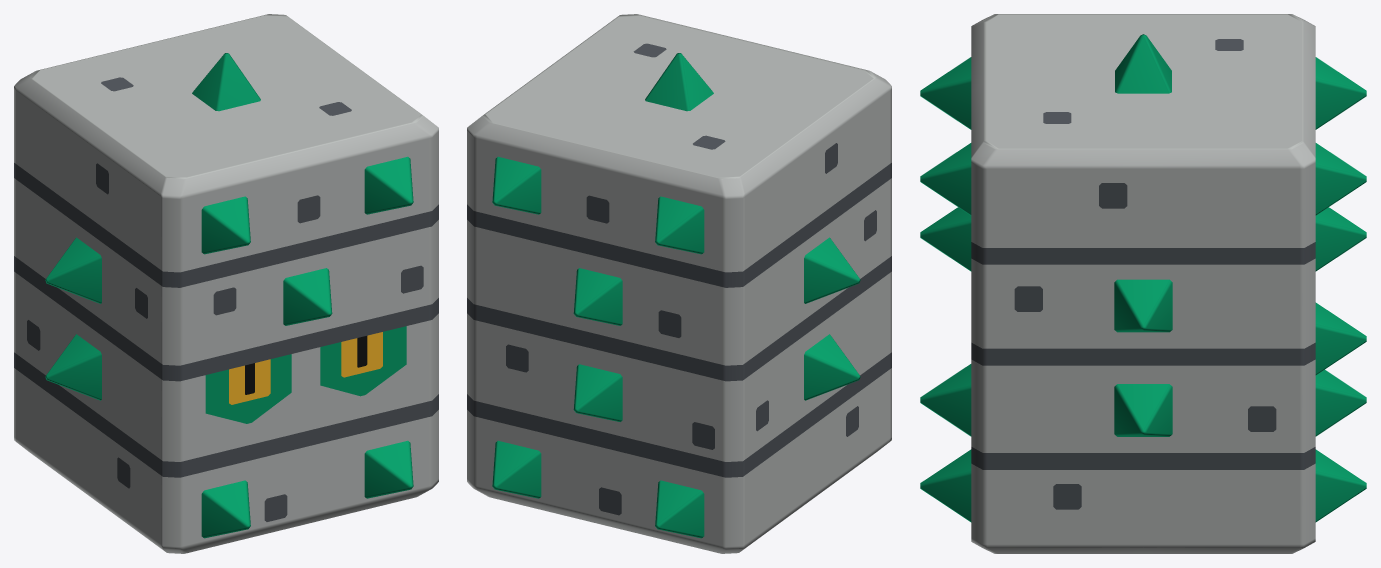
3 views of the same model, side by side, from view 1: azimuth 30°, elevation 25°; view 2: azimuth 150°, elevation 25°; view 3: azimuth 270°, elevation 25° (orthographic). The views are drawn at different scales.
Parts seen in each view (by area): view 1: 0597_ferroseed; view 2: 0597_ferroseed; view 3: 0597_ferroseed.
Part boxes in pixels (box(x1,y1,x2,y2)): 0597_ferroseed: box(14, 14, 438, 553); 0597_ferroseed: box(467, 14, 891, 553); 0597_ferroseed: box(920, 14, 1366, 553).
Size of the model in its own units: 1.43 by 1.74 by 1.42.
1 material, 1 textured.
